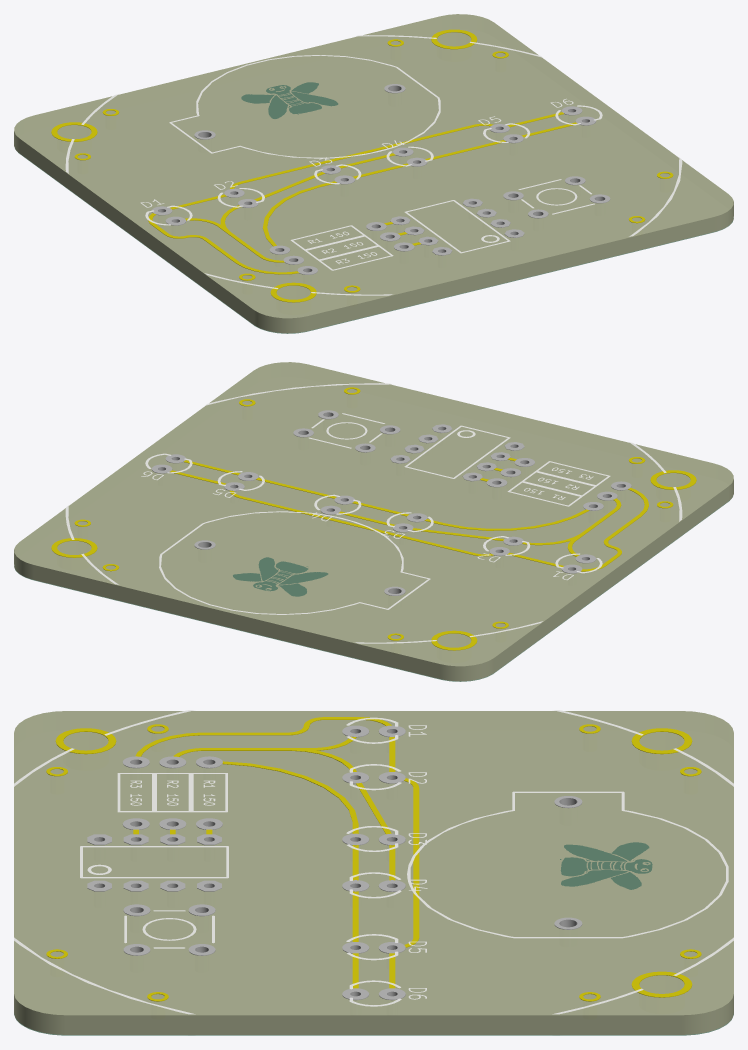
File: jar-of-fireflies.glb
3 renders of one model, top to bottom at view 1: azimuth 30°, elevation 25°; view 2: azimuth 150°, elevation 25°; view 3: azimuth 270°, elevation 25°, orthographic. The views are drawn at different scales.
Visible parts, largest first — view 1: =>[0:1:1:9], =>[0:1:1:2], =>[0:1:1:5], =>[0:1:1:7]; view 2: =>[0:1:1:9], =>[0:1:1:2], =>[0:1:1:5], =>[0:1:1:7]; view 3: =>[0:1:1:9], =>[0:1:1:2], =>[0:1:1:5], =>[0:1:1:7].
Part boxes in pixels (x1,y1,x2,y2): =>[0:1:1:9]: (14,14,733,333); =>[0:1:1:2]: (51,29,673,302); =>[0:1:1:5]: (65,35,682,311); =>[0:1:1:7]: (15,82,733,333); =>[0:1:1:9]: (14,362,733,681); =>[0:1:1:2]: (51,387,696,650); =>[0:1:1:5]: (65,383,682,659); =>[0:1:1:7]: (14,496,732,681); =>[0:1:1:9]: (14,711,733,1034); =>[0:1:1:2]: (46,717,701,1001); =>[0:1:1:5]: (14,710,733,1035); =>[0:1:1:7]: (14,842,733,1035).
Size of the model in its own units: 0.05 by 0.00166 by 0.05.
4 materials, 4 textured.
